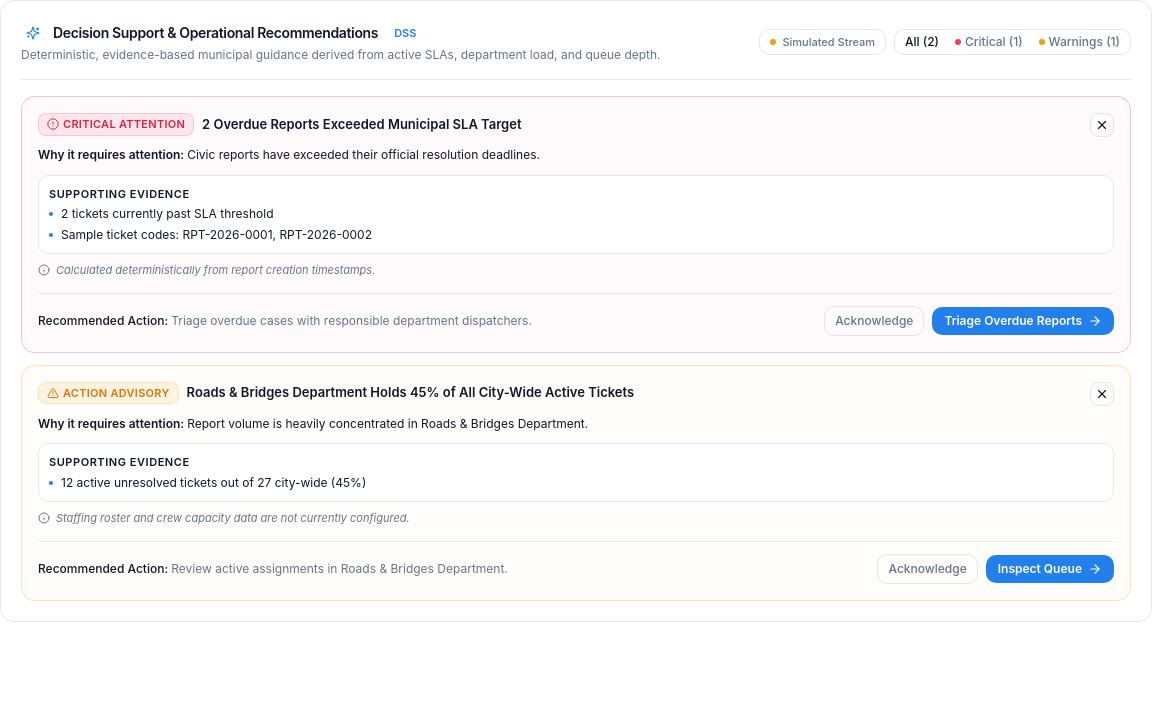
Test: AdminDecisionSupportPanel Component › filters recommendations by severity when filter pills are clicked
The width and height of the screenshot is (1152, 720).
// Click Critical filter
Click the button "Critical (1)": (989, 42) left=947, top=32, right=1031, bottom=52
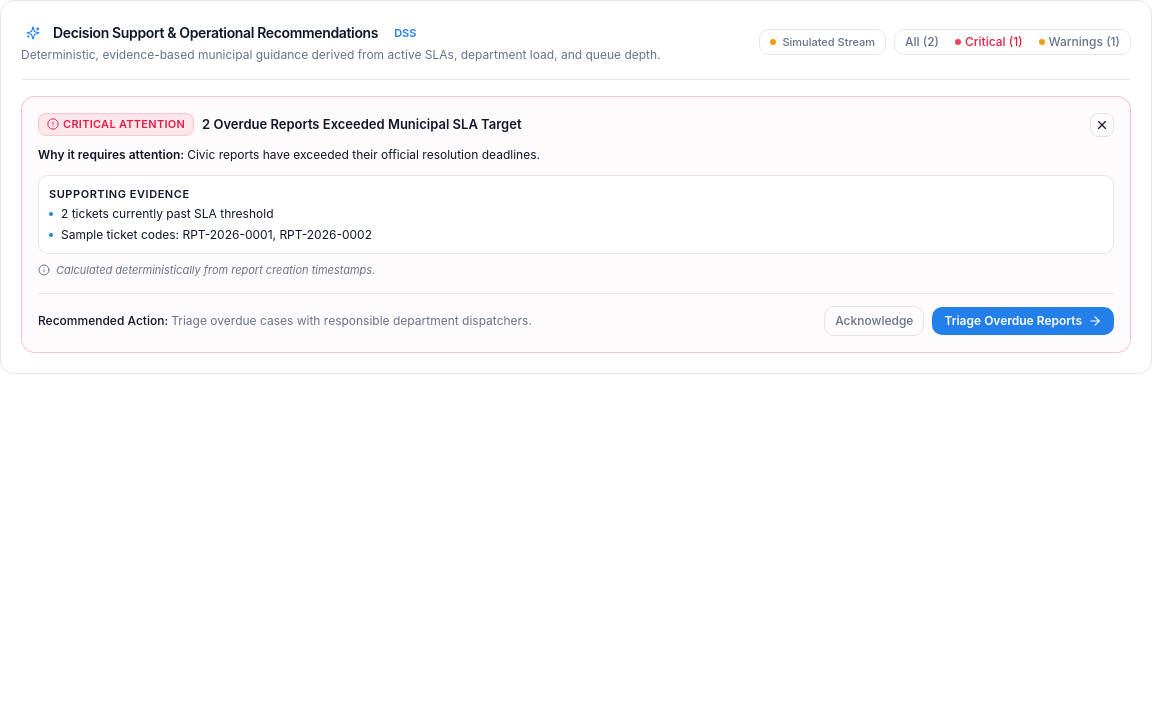
Expected: the text "2 Overdue Reports Exceeded Municipal SLA Target" is shown, left=202, top=114, right=522, bottom=134
Result: the text "Roads & Bridges Department Holds 45%" is gone
// Click Warnings filter
Click the button "Warnings (1)": (1079, 42) left=1031, top=32, right=1128, bottom=52
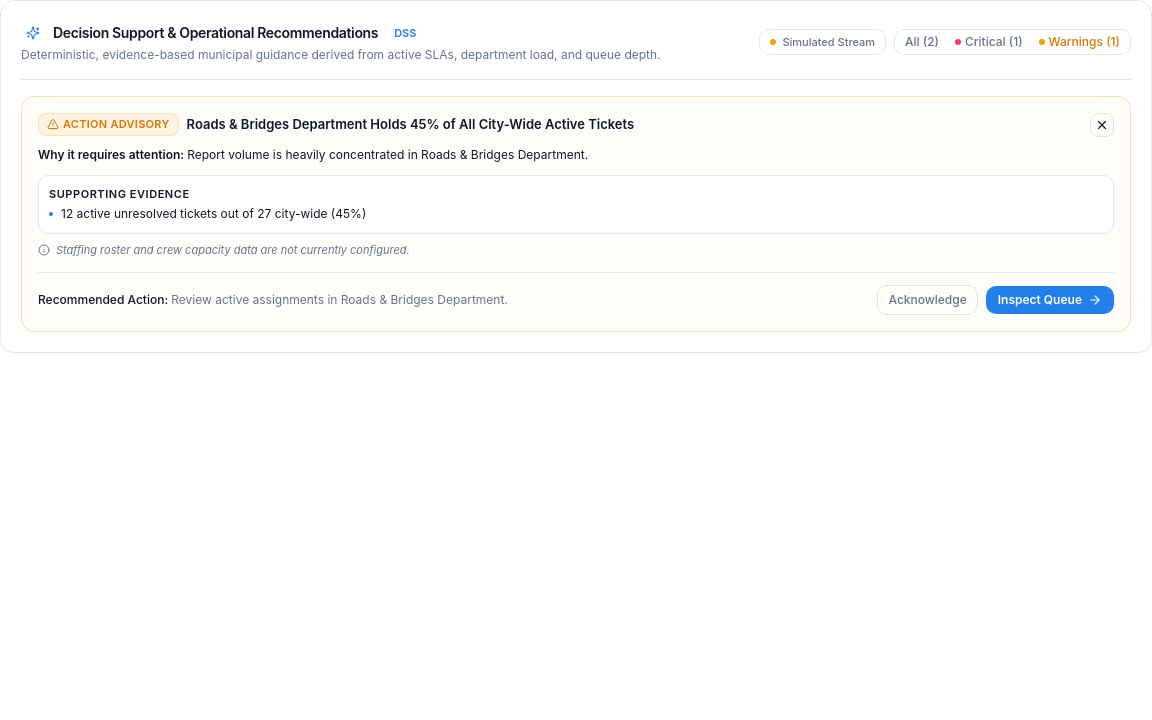
Result: the text "2 Overdue Reports Exceeded Municipal SLA Target" is gone
Result: the text "Roads & Bridges Department Holds 45%" is shown at left=187, top=116, right=634, bottom=132
